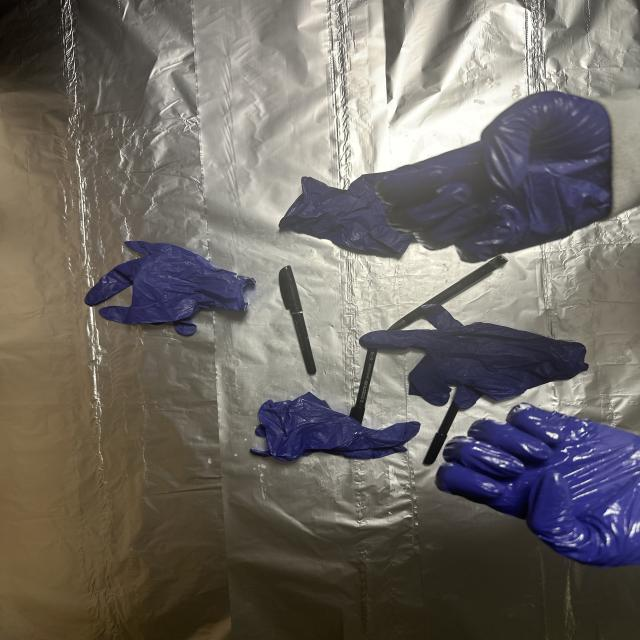gloves_contaminated: (376, 91, 612, 262), (437, 404, 640, 567)
